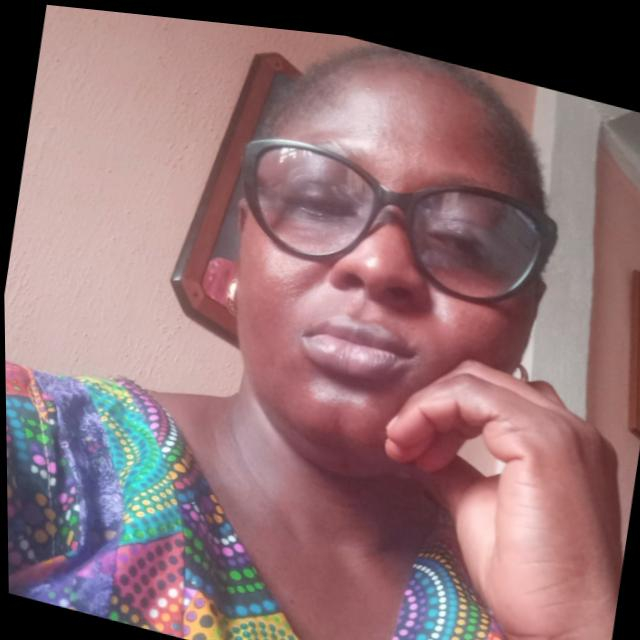sad: (192, 16, 584, 526)
